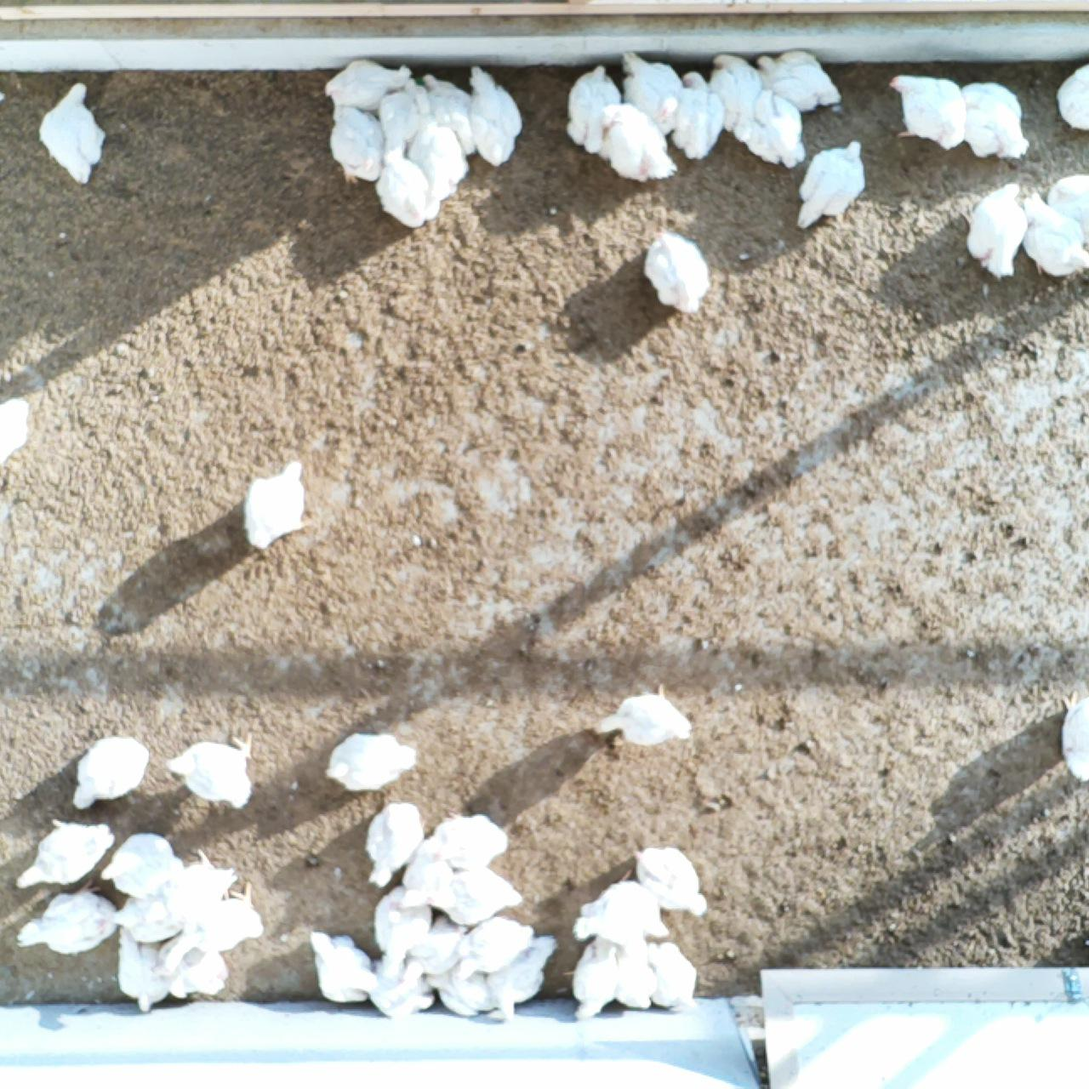chicken: (164, 879, 268, 976), (33, 76, 113, 190), (11, 876, 118, 959), (10, 813, 117, 895), (161, 730, 264, 815), (238, 455, 318, 554), (587, 677, 698, 748), (791, 138, 870, 234), (67, 730, 154, 816), (959, 176, 1030, 281), (627, 836, 714, 921), (320, 727, 425, 797), (640, 222, 715, 320), (461, 58, 526, 171), (571, 869, 674, 940), (598, 101, 679, 187), (957, 77, 1035, 166), (422, 862, 525, 929), (1018, 185, 1089, 282), (887, 71, 970, 153), (753, 42, 847, 114), (450, 914, 538, 988), (416, 808, 519, 871), (368, 884, 435, 979), (304, 927, 381, 1009), (618, 49, 685, 142), (561, 60, 624, 157), (98, 830, 185, 900), (740, 85, 806, 172), (407, 112, 470, 203), (111, 925, 173, 1017), (668, 69, 727, 163), (360, 797, 419, 890), (419, 70, 480, 159), (496, 936, 559, 1021), (324, 56, 413, 115), (376, 145, 433, 236), (707, 51, 764, 141), (562, 934, 620, 1022), (327, 102, 387, 187), (154, 938, 234, 1001), (389, 840, 453, 914), (171, 846, 234, 919), (360, 961, 436, 1020), (644, 941, 702, 1015), (377, 76, 425, 165), (609, 932, 659, 1017), (423, 958, 494, 1017), (407, 914, 468, 980), (1054, 684, 1089, 785), (1041, 169, 1089, 240), (1052, 60, 1089, 137), (0, 392, 33, 478)
